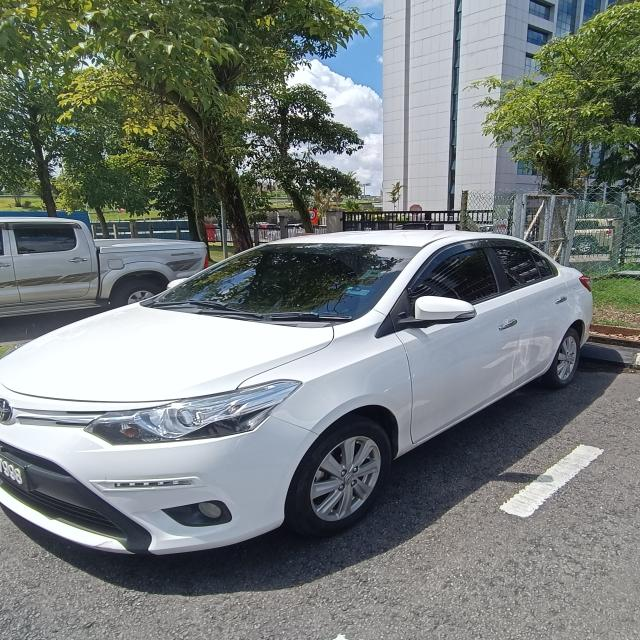ToyotaVios: (0, 226, 595, 556)
